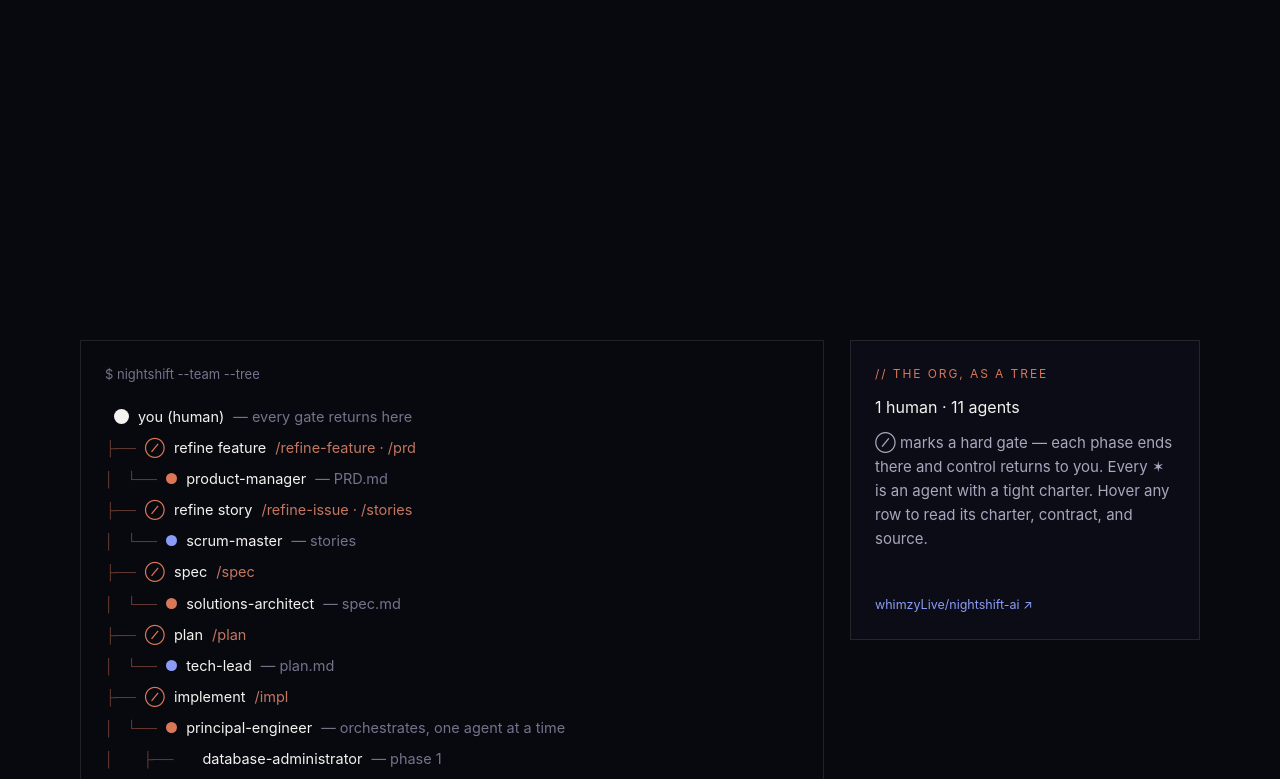
Test: TeamPreview › restores the org summary and full opacity when the tree loses hover (AC3)
This screenshot has width=1280, height=779.
Hover over the text "product-manager" at (246, 478), box left=105, top=470, right=388, bottom=487
(page scrolled)
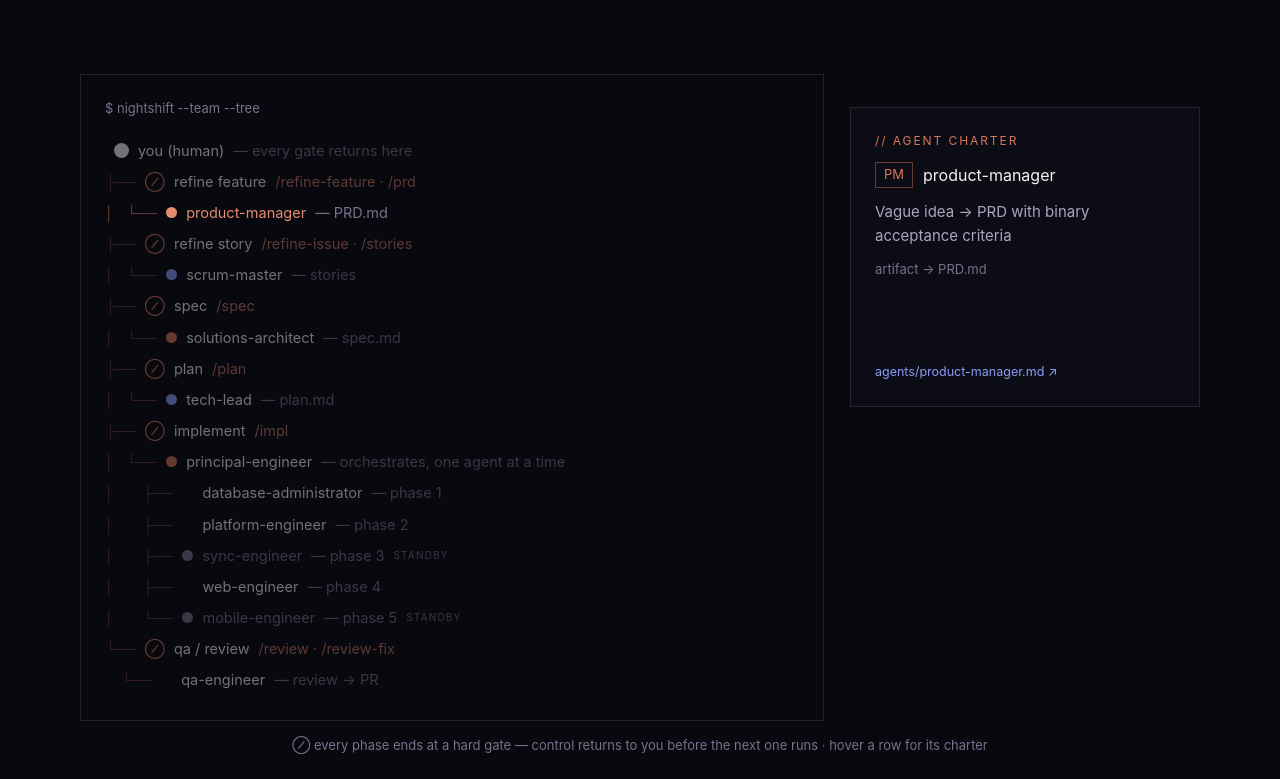
Move the pointer off the element with id "ns-org"
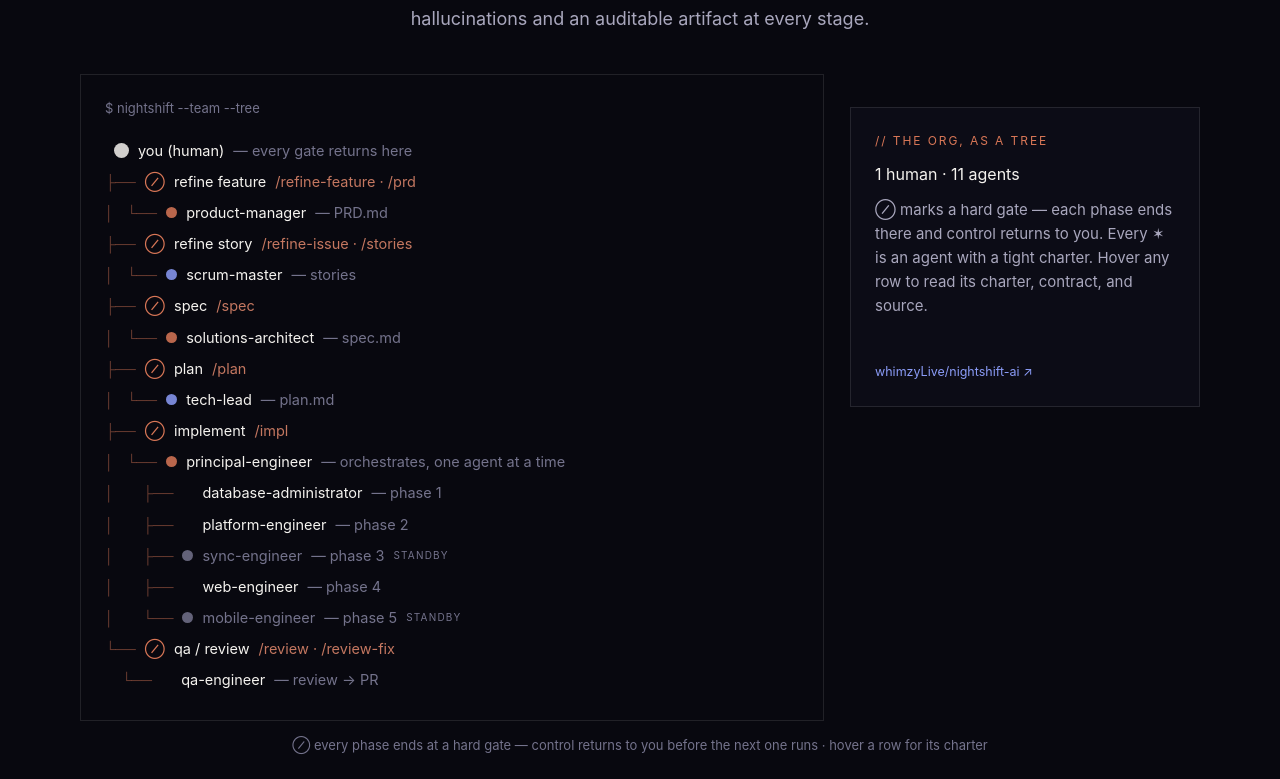
Result: the text "1 human · 11 agents" is shown at left=875, top=162, right=1020, bottom=186
